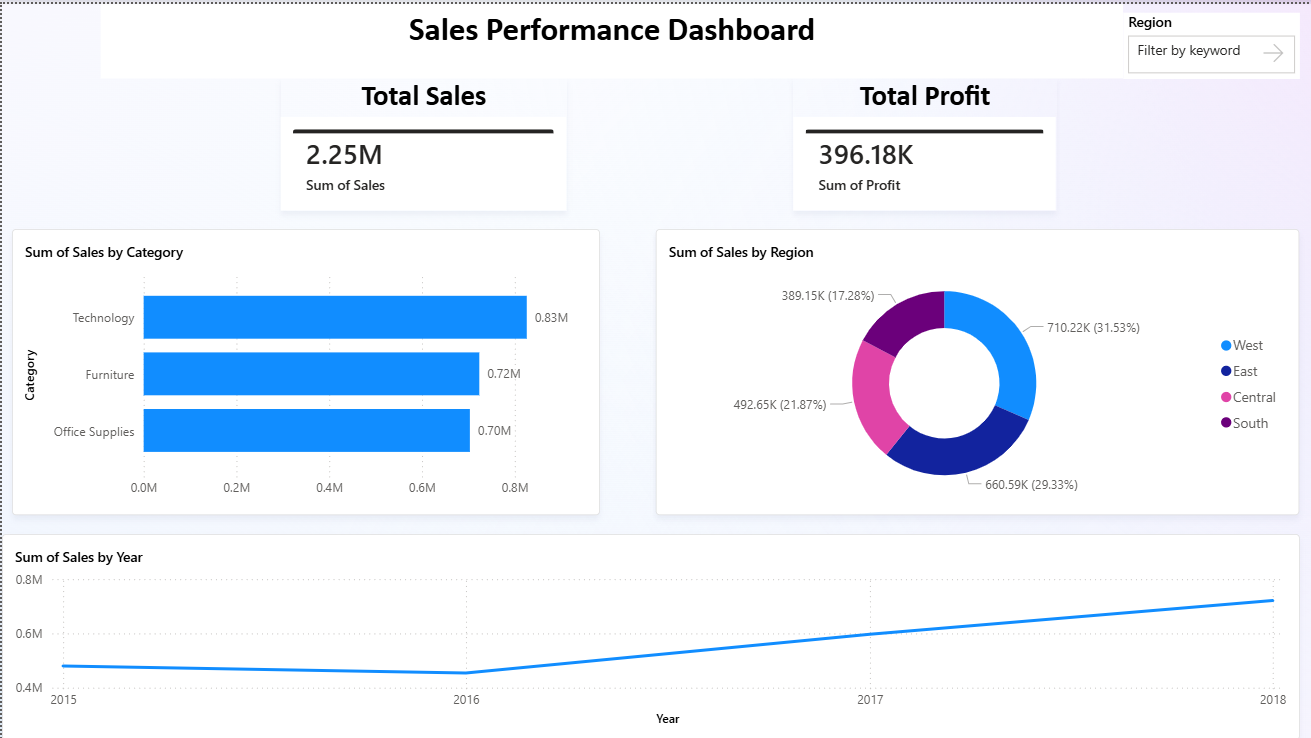

The page's visual inventory and layout, read from the dashboard file:
{"tool":"powerbi","page":{"name":"Page 1","canvas":[1280,720],"ordinal":0},"visuals":[{"type":"cardVisual","title":"Total Sales","fields":{"Data":["Sum(cleaned_superstore.Sales)"]},"box":[273.1,72.7,279.9,130.4],"z":0},{"type":"cardVisual","title":"Total Profit","fields":{"Data":["Sum(cleaned_superstore.Profit)"]},"box":[773.9,72.7,258,130.4],"z":1000},{"type":"clusteredBarChart","fields":{"Category":["cleaned_superstore.Category"],"Y":["Sum(cleaned_superstore.Sales)"]},"box":[9.6,219.6,575,279.9],"z":2000},{"type":"lineChart","fields":{"Category":["cleaned_superstore.Order Date.Variation.Date Hierarchy.Year","cleaned_superstore.Order Date.Variation.Date Hierarchy.Quarter","cleaned_superstore.Order Date.Variation.Date Hierarchy.Month","cleaned_superstore.Order Date.Variation.Date Hierarchy.Day"],"Y":["Sum(cleaned_superstore.Sales)"]},"box":[0,518.7,1269.3,201.7],"z":3000},{"type":"donutChart","fields":{"Category":["cleaned_superstore.Region"],"Y":["Sum(cleaned_superstore.Sales)"]},"box":[639.5,219.6,629.8,279.9],"z":4000},{"type":"textSlicer","fields":{"Values":["cleaned_superstore.Region"]},"box":[1096.4,8.2,172.9,64.5],"z":5000},{"type":"textbox","box":[96.1,0,1000.3,72.7],"z":6000}]}

Visuals, with their boxes in screenshot pixels (x1, y1, x2, y2), scaled from the page's 1280x720 canvas onto the 1311x738 screenshot:
"Total Sales" cardVisual: locate(280, 75, 566, 208)
"Total Profit" cardVisual: locate(793, 75, 1057, 208)
clusteredBarChart - cleaned_superstore.Category x Sum(cleaned_superstore.Sales): locate(10, 225, 599, 512)
lineChart - cleaned_superstore.Order Date.Variation.Date Hierarchy.Year x cleaned_superstore.Order Date.Variation.Date Hierarchy.Quarter: locate(0, 532, 1300, 737)
donutChart - cleaned_superstore.Region x Sum(cleaned_superstore.Sales): locate(655, 225, 1300, 512)
textSlicer - cleaned_superstore.Region: locate(1123, 8, 1300, 75)
textbox: locate(98, 0, 1123, 75)
